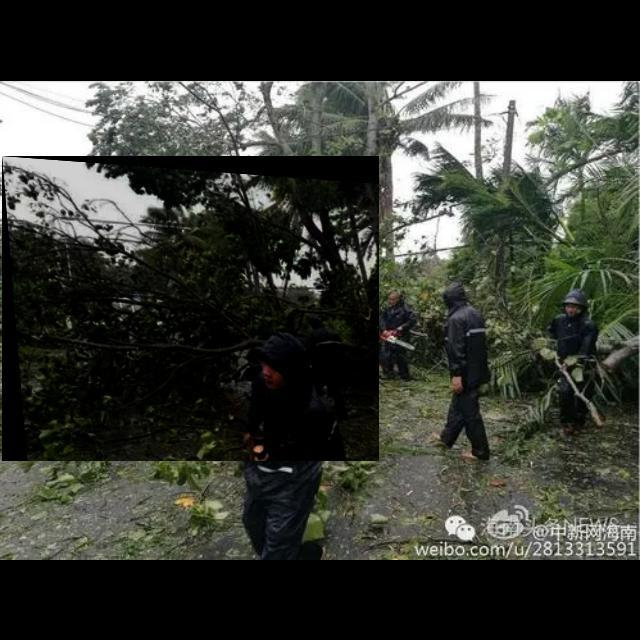fallen_tree: (2, 156, 380, 462)
